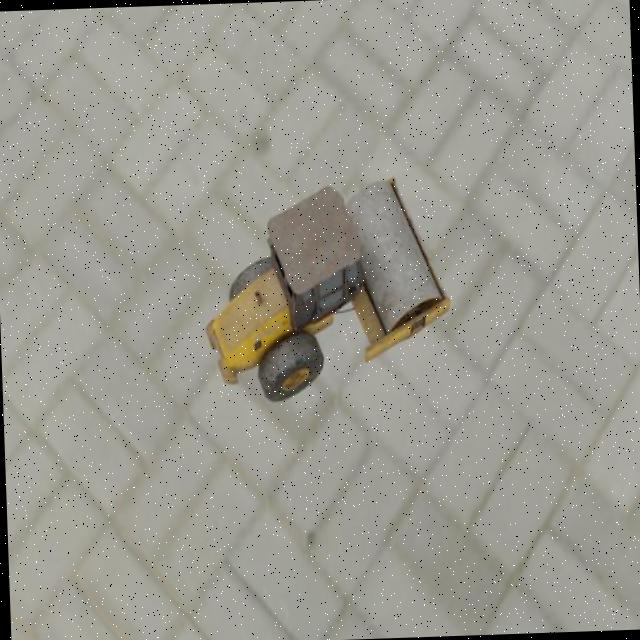Roller: (199, 173, 454, 405)
